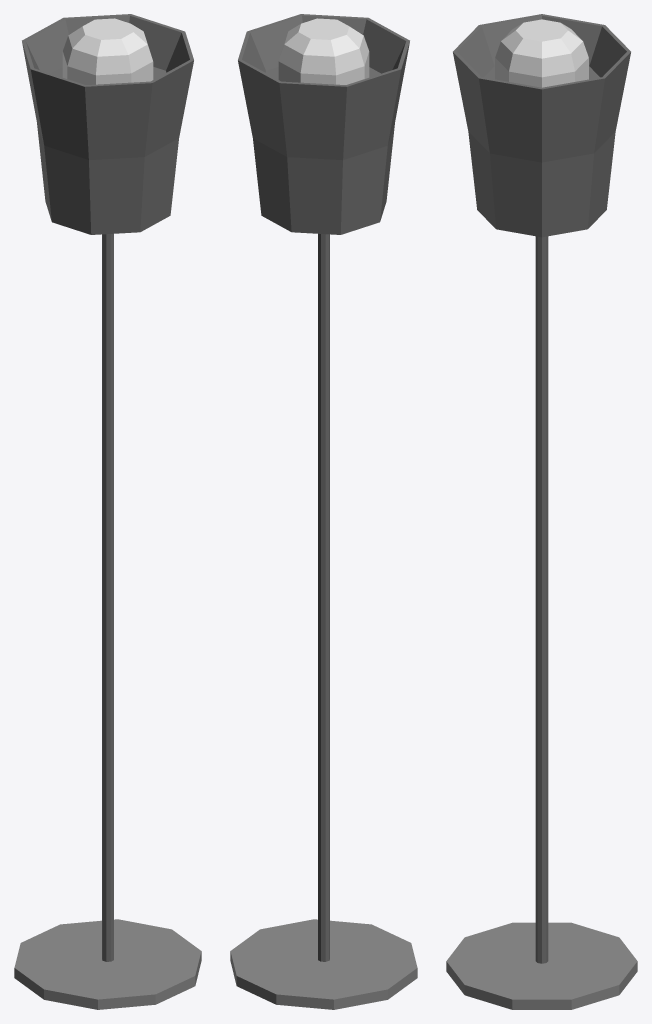
The model's file is home_light_floor1.fbx.
3 renders of one model, left to right at view 1: azimuth 30°, elevation 25°; view 2: azimuth 150°, elevation 25°; view 3: azimuth 270°, elevation 25°, orthographic.
Visible parts, largest first — view 1: home_light_floor1; view 2: home_light_floor1; view 3: home_light_floor1.
Part boxes in pixels (x1=…): home_light_floor1: x1=14, y1=14, x2=201, y2=1009; home_light_floor1: x1=230, y1=14, x2=417, y2=1009; home_light_floor1: x1=446, y1=14, x2=637, y2=1009.
Bounding box in the file's own units: 0.2978 × 1.7 × 0.3132.
